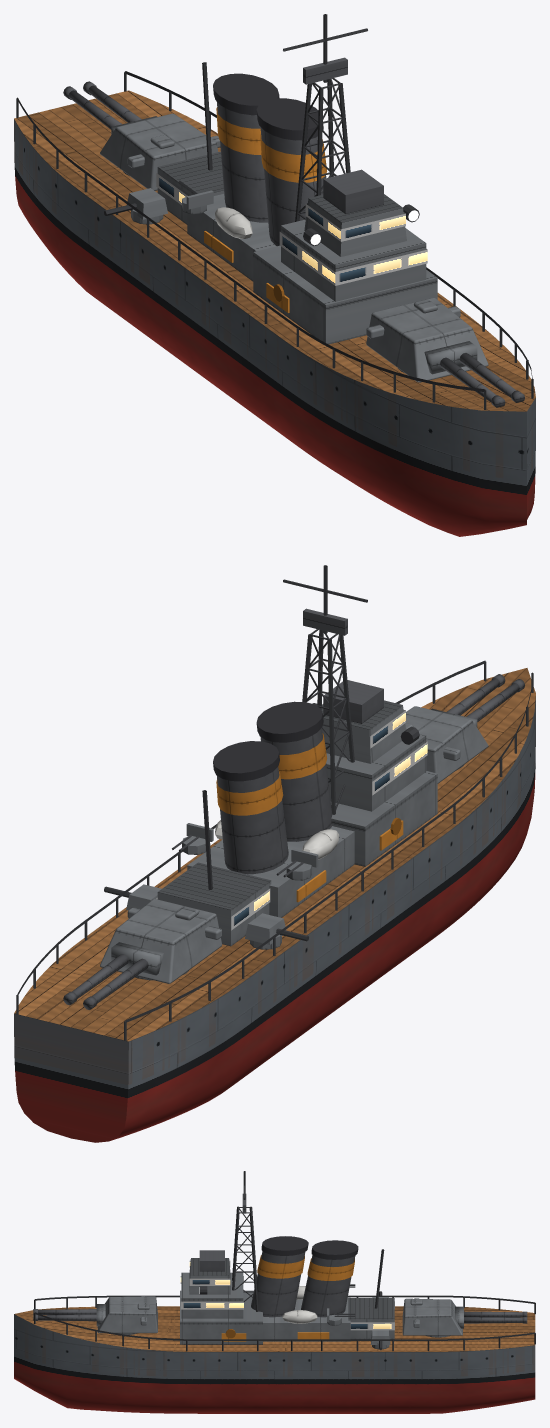
Rendered from cruiser.gltf.
3 views of the same model, one above another, from view 1: azimuth 30°, elevation 25°; view 2: azimuth 150°, elevation 25°; view 3: azimuth 270°, elevation 25° (orthographic). The views are drawn at different scales.
Visible parts, largest first — view 1: cruiser_hull, TURRET_A, TURRET_C, GUN_A, GUN_C; view 2: cruiser_hull, TURRET_C, TURRET_A, GUN_C, GUN_A; view 3: cruiser_hull, TURRET_C, TURRET_A, GUN_C, GUN_A.
Part boxes in pixels (bbox=[...]): cruiser_hull: bbox=[14, 14, 535, 536]; TURRET_A: bbox=[366, 298, 488, 382]; TURRET_C: bbox=[100, 113, 220, 190]; GUN_A: bbox=[424, 341, 524, 407]; GUN_C: bbox=[63, 81, 157, 134]; cruiser_hull: bbox=[14, 565, 535, 1142]; TURRET_C: bbox=[100, 899, 222, 983]; TURRET_A: bbox=[405, 706, 488, 783]; GUN_C: bbox=[63, 942, 163, 1009]; GUN_A: bbox=[431, 674, 524, 727]; cruiser_hull: bbox=[14, 1171, 535, 1413]; TURRET_C: bbox=[402, 1298, 462, 1337]; TURRET_A: bbox=[97, 1296, 157, 1334]; GUN_C: bbox=[455, 1306, 527, 1328]; GUN_A: bbox=[33, 1304, 105, 1326].
Bounding box in the file's own units: 2.9 × 5.57 × 11.32.
Materials: 9 (7 with a texture image).
